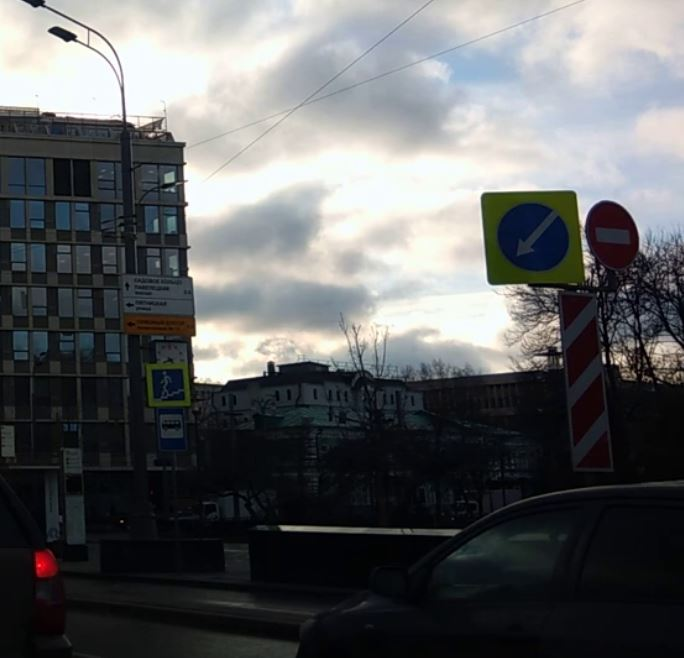Sagdan Git: (503, 206, 569, 270)
